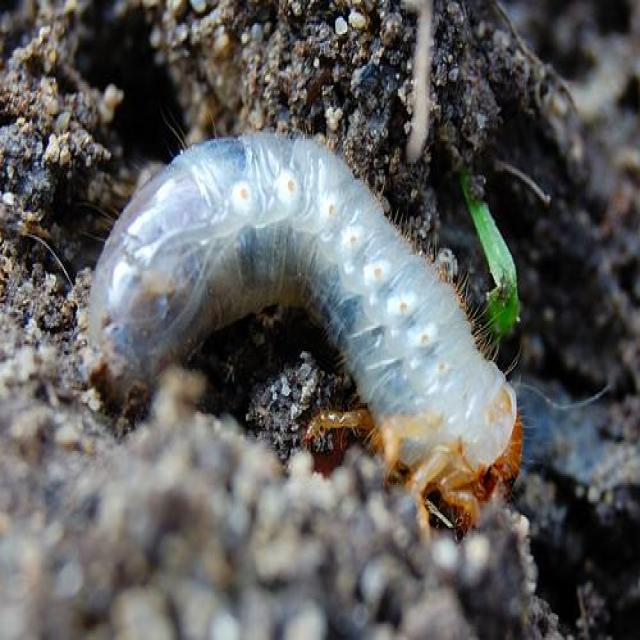Grub-Adult-: (70, 112, 533, 533)
